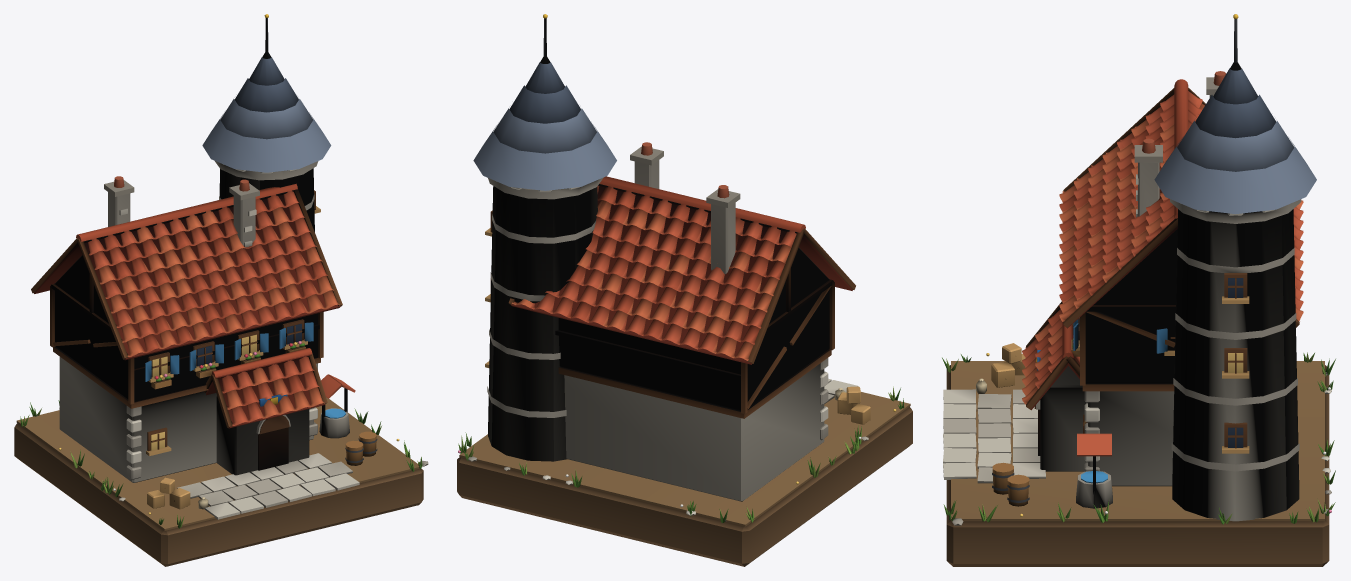
3 views of the same model, side by side, from view 1: azimuth 30°, elevation 25°; view 2: azimuth 150°, elevation 25°; view 3: azimuth 270°, elevation 25° (orthographic). The views are drawn at different scales.
Parts seen in each view (by area): view 1: hq_l1; view 2: hq_l1; view 3: hq_l1.
Part boxes in pixels (bbox=[...]): hq_l1: bbox=[14, 14, 428, 566]; hq_l1: bbox=[457, 14, 912, 566]; hq_l1: bbox=[942, 14, 1335, 566].
Size of the model in its own units: 1.86 by 2.68 by 1.82.
